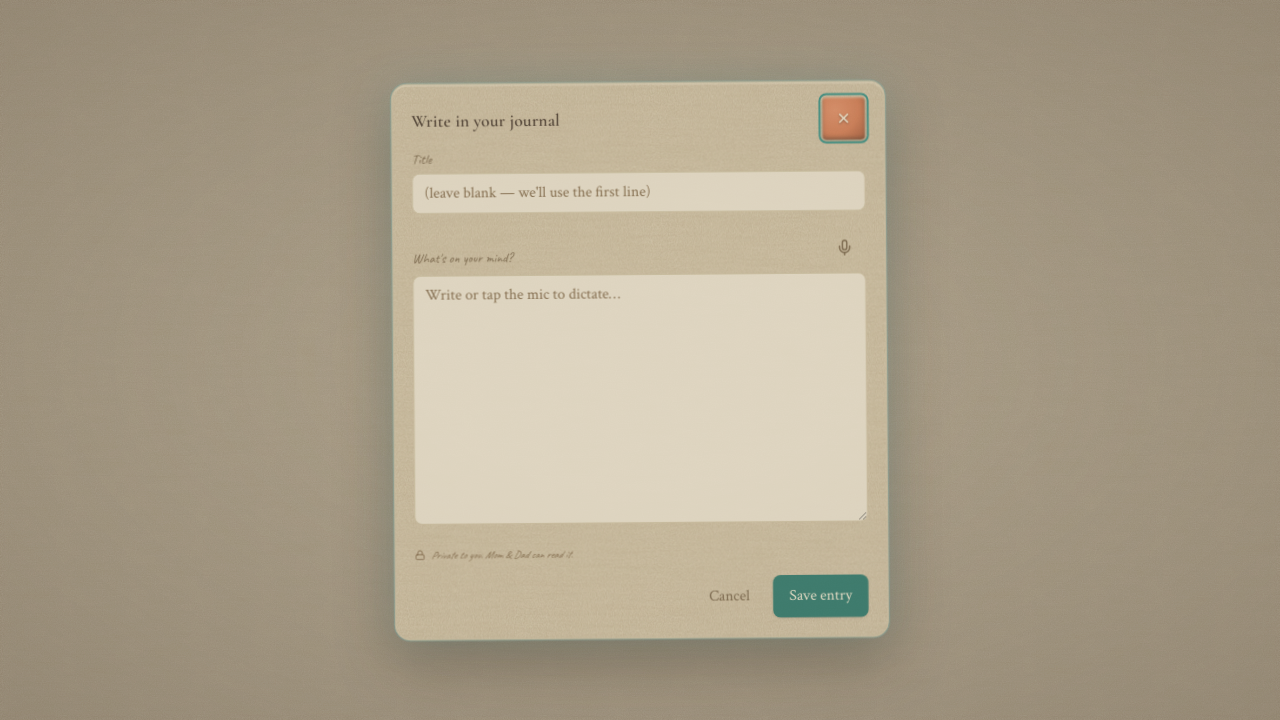
JournalEntryFormModal › flips to edit mode when POST returns 409 with the existing entry
The width and height of the screenshot is (1280, 720).
In the text box labelled "What's on your mind?": (640, 398) left=413, top=272, right=868, bottom=524, type "New thought I typed"
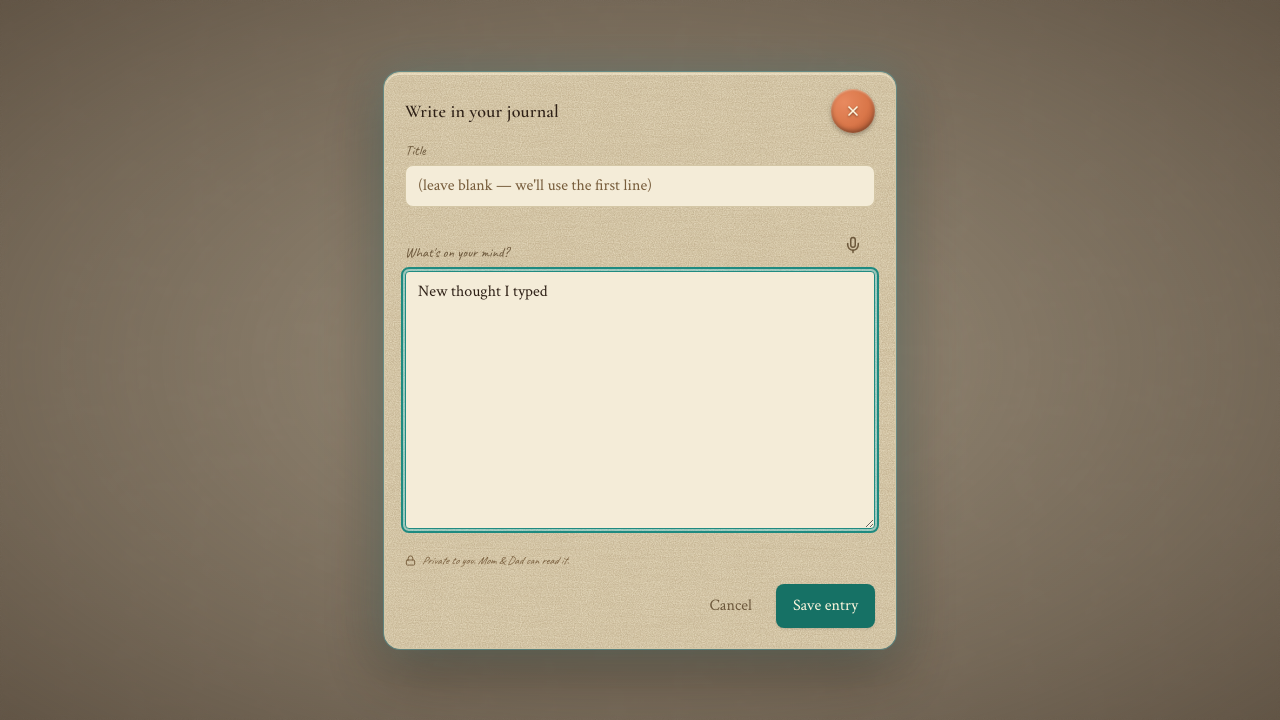
Click the button "Save entry": click(825, 606) left=776, top=584, right=875, bottom=628
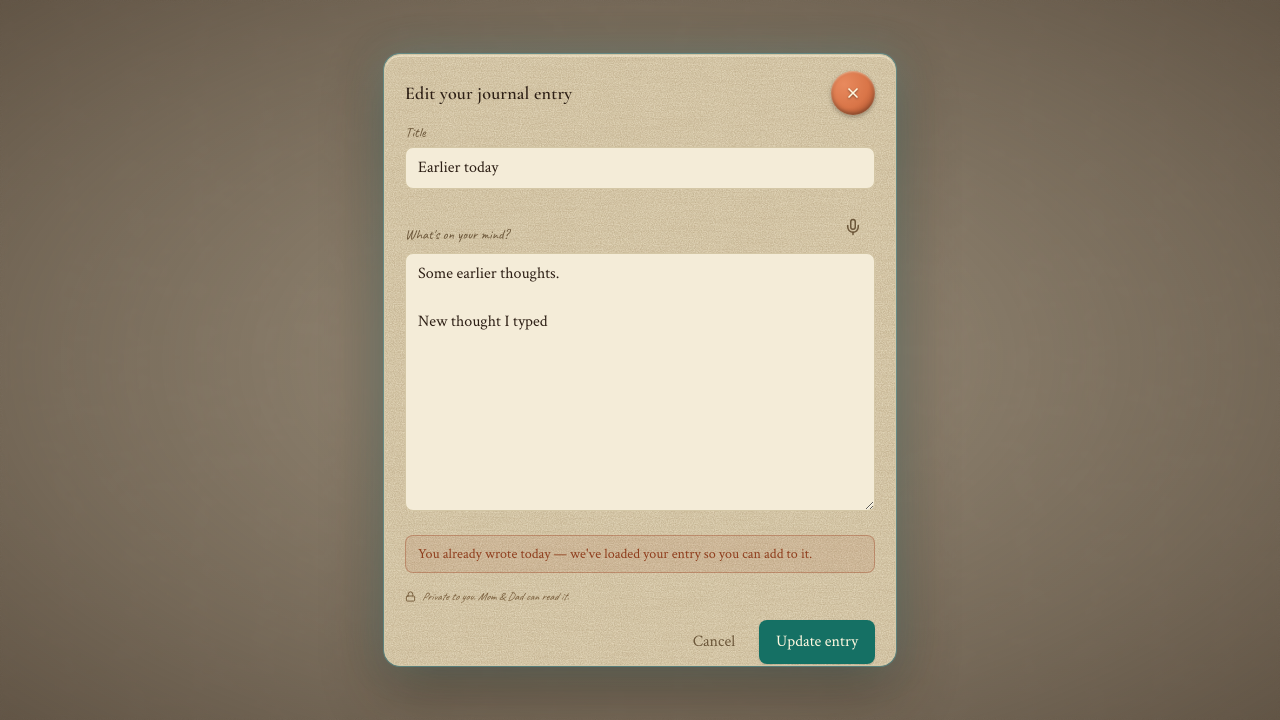
Expected: the dialog "Edit your journal entry" is shown, left=384, top=54, right=896, bottom=666
Expected: the button "Update entry" is shown, left=759, top=620, right=875, bottom=664
Expected: the message shows "already wrote today", left=418, top=545, right=812, bottom=563
